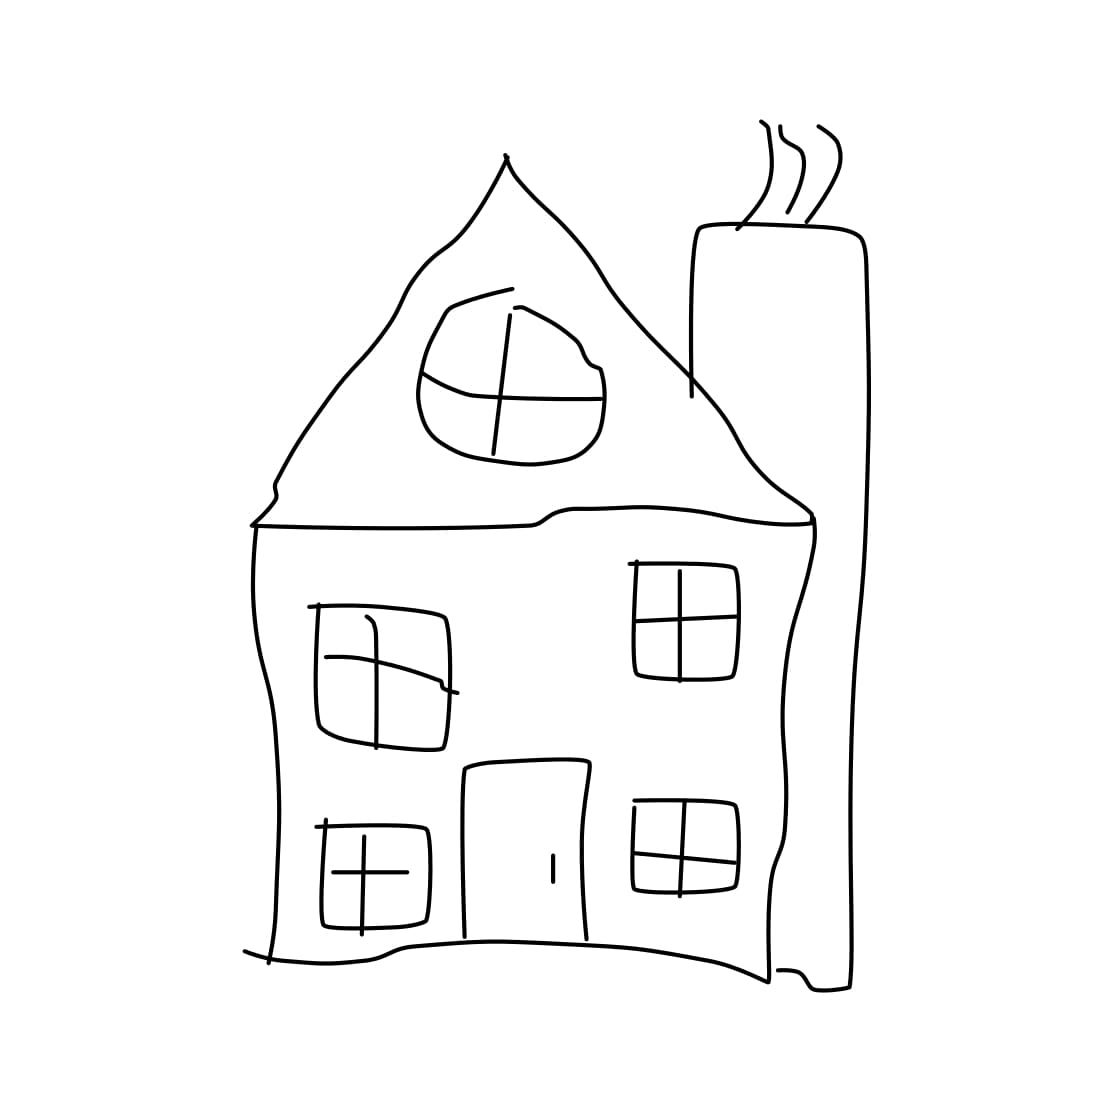House: (170, 121, 921, 1011)
